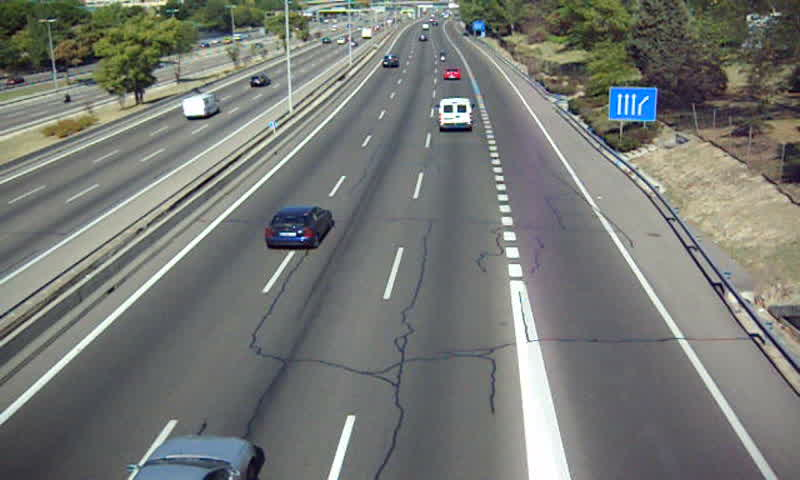car: (266, 206, 332, 244), (442, 68, 463, 84), (380, 55, 399, 70)
van: (438, 98, 472, 129)
